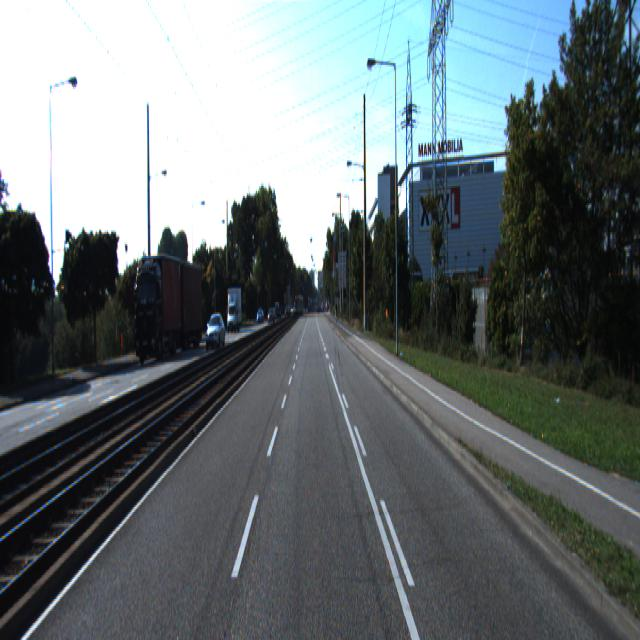Car: (132, 250, 182, 366), (165, 259, 203, 355), (205, 313, 226, 353)
